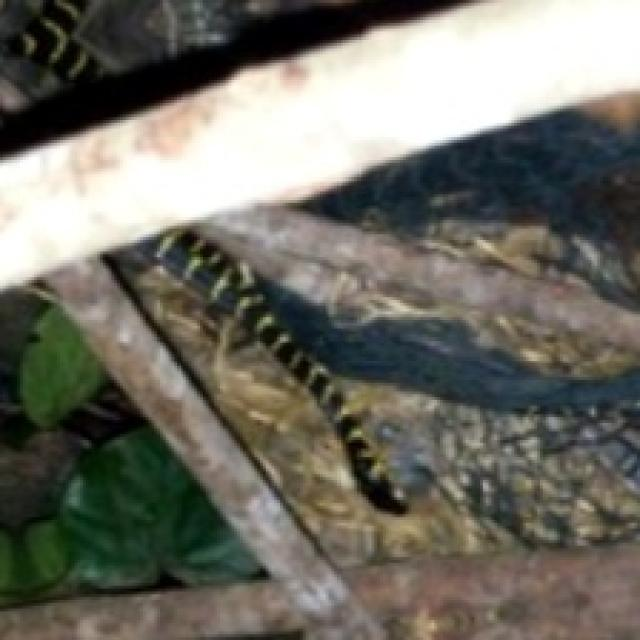mangrove cat snake: (154, 229, 406, 511)
